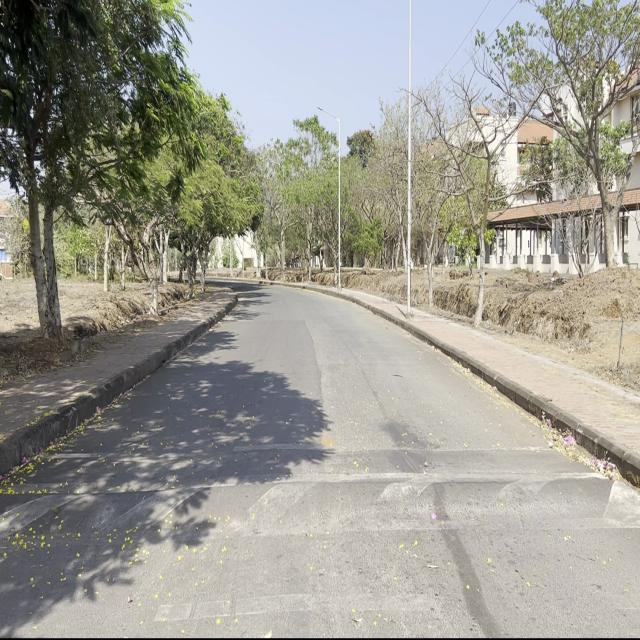Road: (3, 282, 637, 633)
